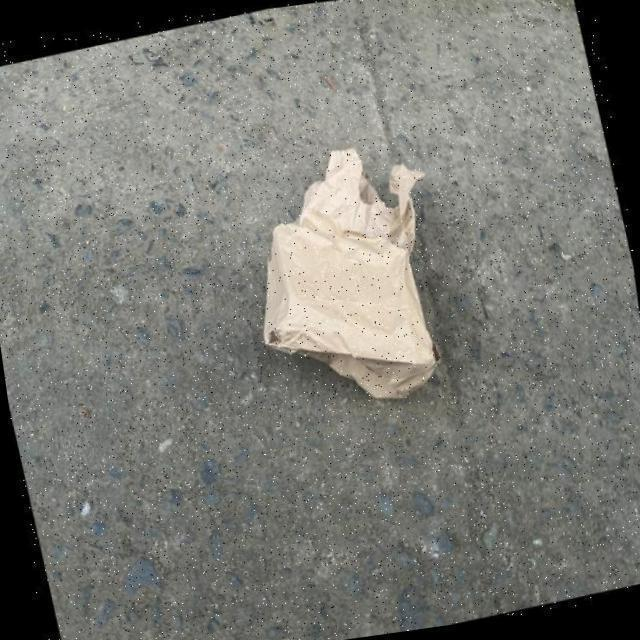Paper_Bag: (222, 124, 471, 426)
